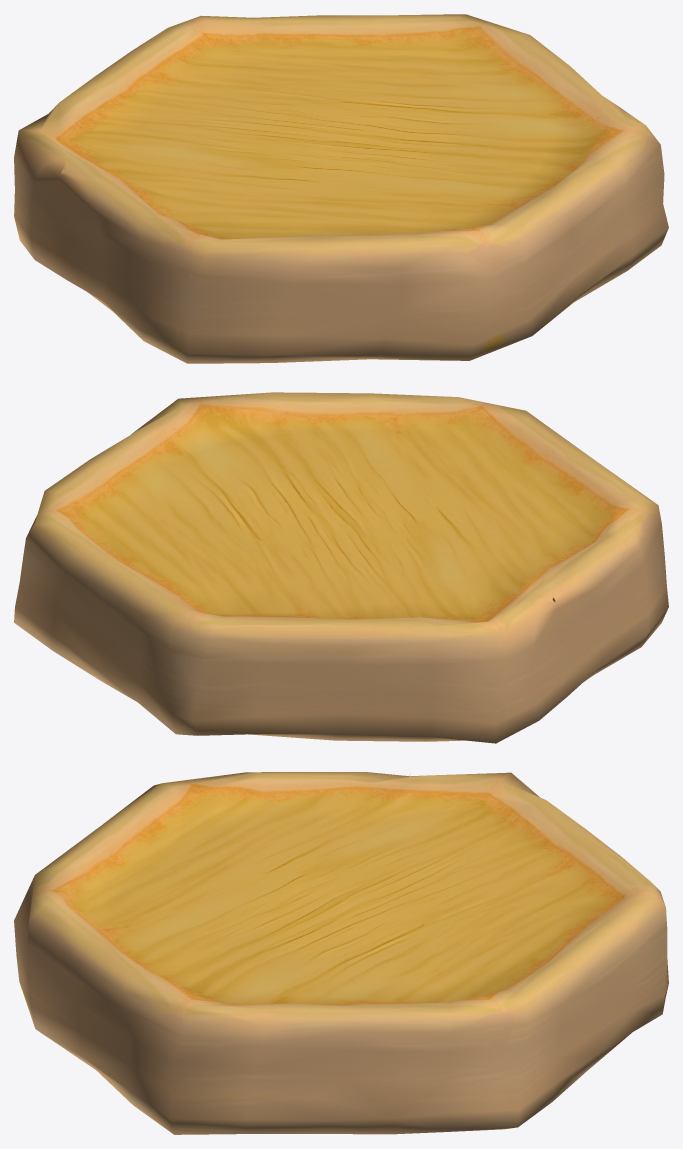
File: wooden-hex-light-400T.fbx
The picture shows the model from 3 angles, top to bottom: view 1: azimuth 30°, elevation 25°; view 2: azimuth 150°, elevation 25°; view 3: azimuth 270°, elevation 25°; orthographic projection. The views are drawn at different scales.
Parts seen in each view (by area): view 1: tripo_node_6f17d820; view 2: tripo_node_6f17d820; view 3: tripo_node_6f17d820.
Part boxes in pixels (x1,y1,x2,y2): tripo_node_6f17d820: (14,14,668,363); tripo_node_6f17d820: (14,392,668,743); tripo_node_6f17d820: (14,772,668,1134).
Size of the model in its own units: 0.9052 by 0.2054 by 0.9875.
1 material, 1 textured.
